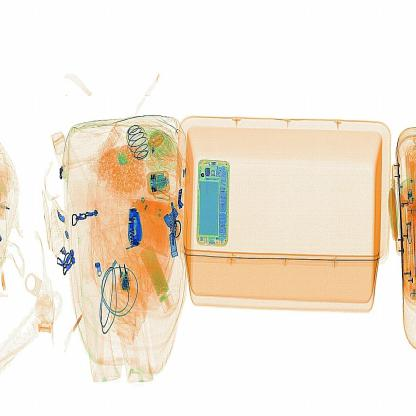scissors: (122, 204, 150, 256)
